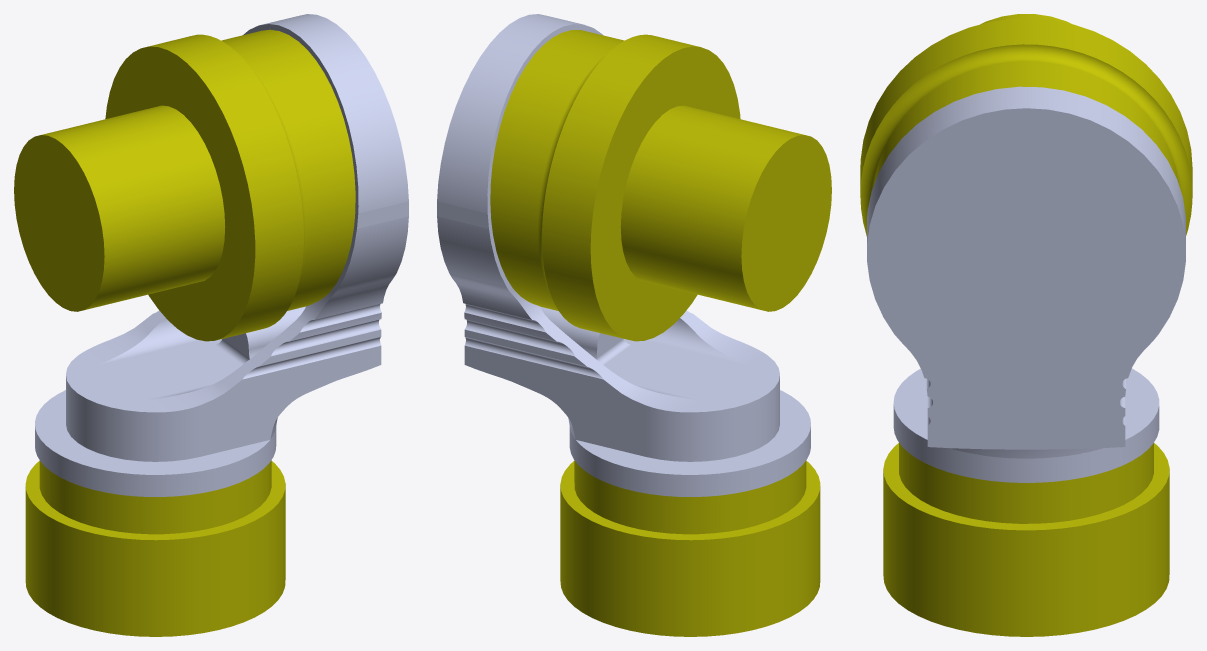
3 renders of one model, left to right at view 1: azimuth 30°, elevation 25°; view 2: azimuth 150°, elevation 25°; view 3: azimuth 270°, elevation 25°, orthographic. The views are drawn at different scales.
Parts seen in each view (by area): view 1: Actor0; view 2: Actor0; view 3: Actor0.
Part boxes in pixels (box(x1,y1,x2,y2)): Actor0: box(14, 14, 408, 636); Actor0: box(437, 14, 831, 636); Actor0: box(860, 14, 1192, 636).
Size of the model in its own units: 0.1459 by 0.2466 by 0.13.
